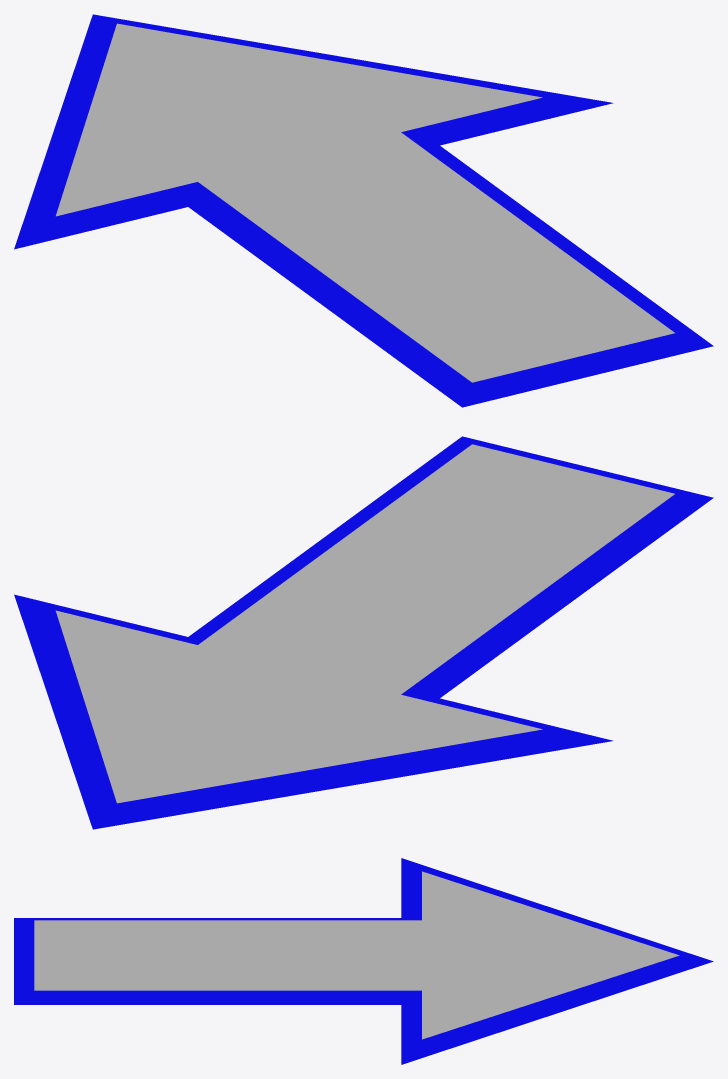
The model's file is Car4_Arrow.fbx.
3 renders of one model, top to bottom at view 1: azimuth 30°, elevation 25°; view 2: azimuth 150°, elevation 25°; view 3: azimuth 270°, elevation 25°, orthographic. The views are drawn at different scales.
Parts seen in each view (by area): view 1: pCube6, pCube7; view 2: pCube6, pCube7; view 3: pCube6, pCube7.
Part boxes in pixels (x1=…): pCube6: x1=56, y1=23, x2=674, y2=382; pCube7: x1=14, y1=14, x2=713, y2=407; pCube6: x1=55, y1=444, x2=674, y2=803; pCube7: x1=14, y1=436, x2=713, y2=829; pCube6: x1=34, y1=871, x2=679, y2=1039; pCube7: x1=14, y1=858, x2=713, y2=1064.
Size of the model in its own units: 73.83 by 1 by 106.
